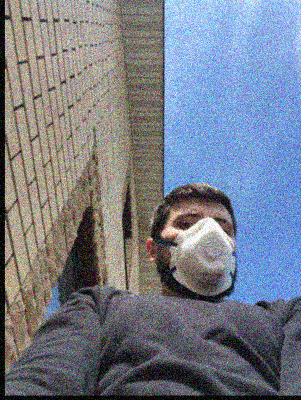with_mask: (161, 208, 237, 301)
